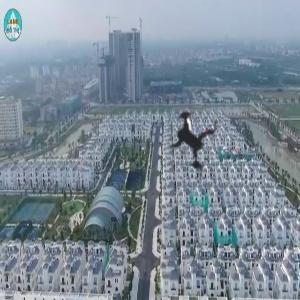drone: (138, 83, 254, 199)
